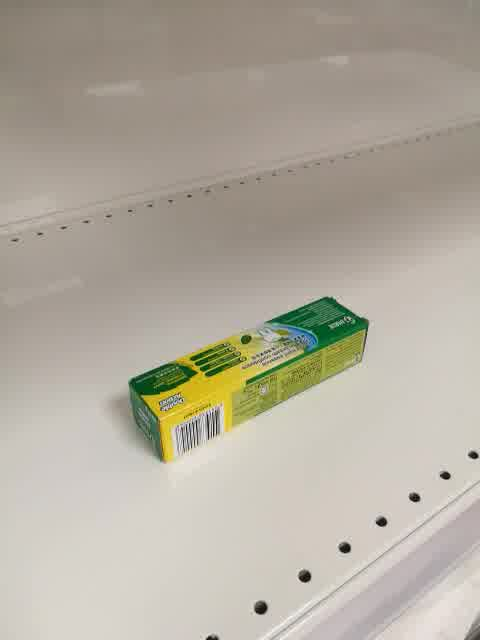toothpaste: (125, 295, 371, 465)
